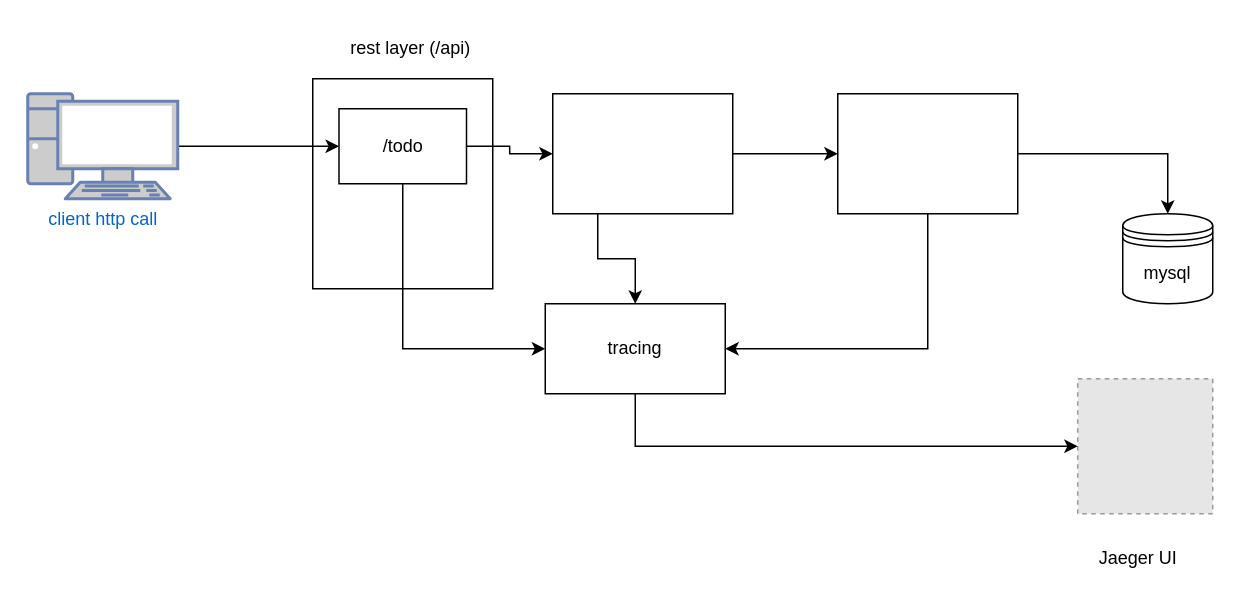
Image size: 1239x606. Some labels were removed from this diagram. Grey dashed boxes stand in for pictures. Each missing label, with the centre of its shape:
"Core TodoItem" belongs at pixel 642 153.
"tododb" belongs at pixel 927 153.
